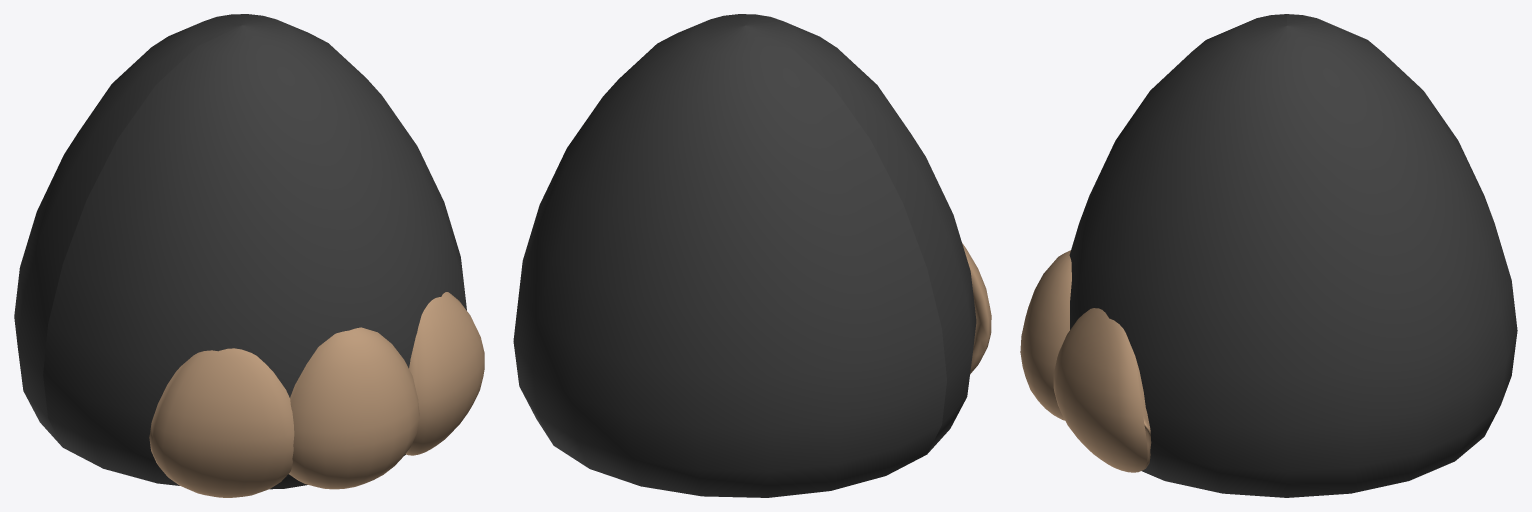
Rendered from foot_pachyderm.glb.
The picture shows the model from 3 angles, left to right: view 1: azimuth 30°, elevation 25°; view 2: azimuth 150°, elevation 25°; view 3: azimuth 270°, elevation 25°; orthographic projection.
Parts seen in each view (by area): view 1: CombinedMesh_MaterialSlots; view 2: CombinedMesh_MaterialSlots; view 3: CombinedMesh_MaterialSlots.
Part boxes in pixels (bbox=[...]): CombinedMesh_MaterialSlots: bbox=[14, 14, 484, 497]; CombinedMesh_MaterialSlots: bbox=[513, 14, 991, 497]; CombinedMesh_MaterialSlots: bbox=[1020, 14, 1517, 497].
Size of the model in its own units: 2.2 by 2.12 by 2.35.
